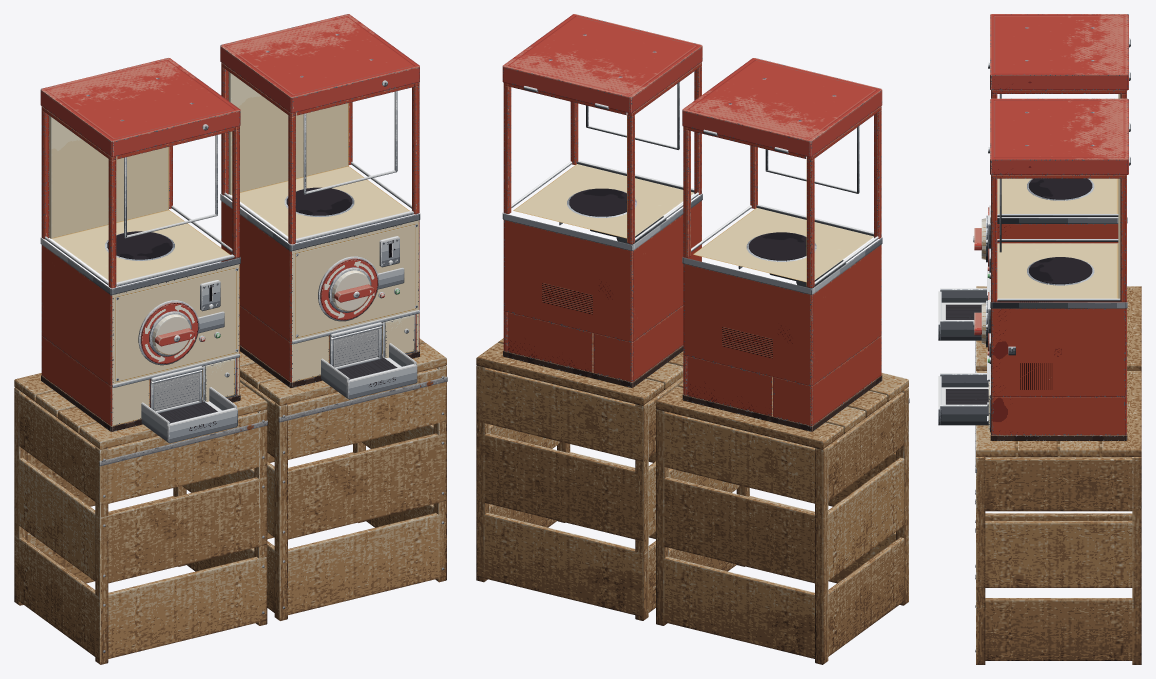
The model's file is gacha_twin_m.glb.
3 views of the same model, side by side, from view 1: azimuth 30°, elevation 25°; view 2: azimuth 150°, elevation 25°; view 3: azimuth 270°, elevation 25° (orthographic). The views are drawn at different scales.
Parts seen in each view (by area): view 1: stand (×2), body (×2), lid (×2), crank (×2), flap (×2), drawer (×2); view 2: stand (×2), body (×2), lid (×2); view 3: body (×2), stand (×2), lid (×2), crank (×2).
Part boxes in pixels (left/top/right/bottom): stand (×2): left=14, top=338, right=447, bottom=664; body (×2): left=40, top=62, right=420, bottom=443; lid (×2): left=40, top=14, right=419, bottom=157; crank (×2): left=149, top=267, right=374, bottom=356; flap (×2): left=151, top=326, right=381, bottom=411; drawer (×2): left=202, top=315, right=414, bottom=401; stand (×2): left=476, top=333, right=909, bottom=664; body (×2): left=502, top=62, right=882, bottom=431; lid (×2): left=502, top=14, right=882, bottom=157; body (×2): left=938, top=90, right=1127, bottom=440; stand (×2): left=975, top=286, right=1141, bottom=664; lid (×2): left=988, top=14, right=1130, bottom=174; crank (×2): left=973, top=215, right=987, bottom=347.
Bounding box in the file's own units: 0.914 × 1.29 × 0.479.
Materials: 12 (12 with a texture image).
